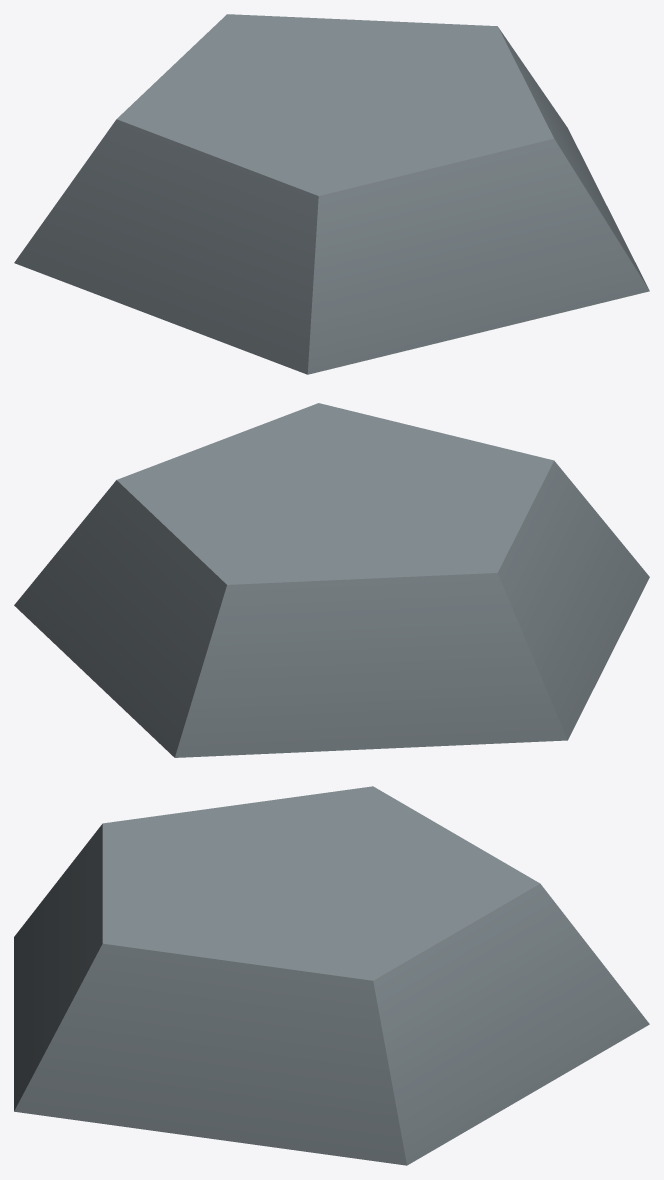
Rendered from hex_rock_single_a.glb.
The picture shows the model from 3 angles, top to bottom: view 1: azimuth 30°, elevation 25°; view 2: azimuth 150°, elevation 25°; view 3: azimuth 270°, elevation 25°; orthographic projection. The views are drawn at different scales.
Visible parts, largest first — view 1: hex_rock_single_a; view 2: hex_rock_single_a; view 3: hex_rock_single_a.
Part boxes in pixels (x1,y1,x2,y2): hex_rock_single_a: [14, 14, 649, 374]; hex_rock_single_a: [14, 403, 649, 757]; hex_rock_single_a: [14, 786, 649, 1165].
Bounding box in the file's own units: 0.1491 × 0.0347 × 0.1418.
1 material, 1 textured.
